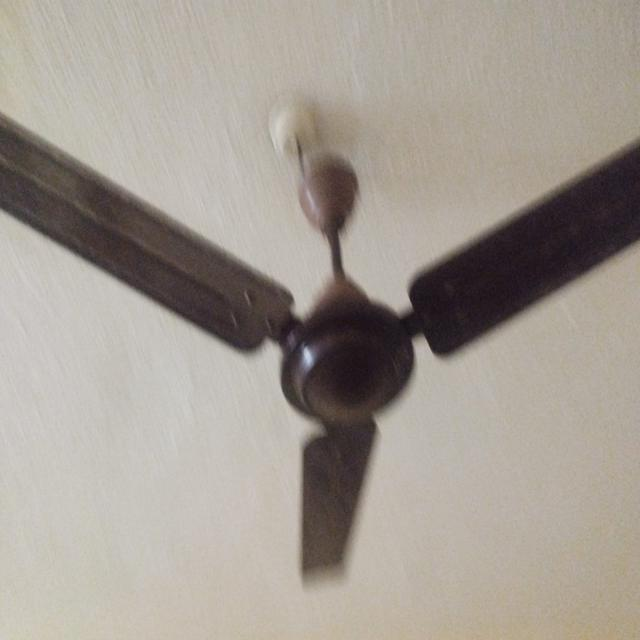fan_off: (0, 116, 640, 578)
